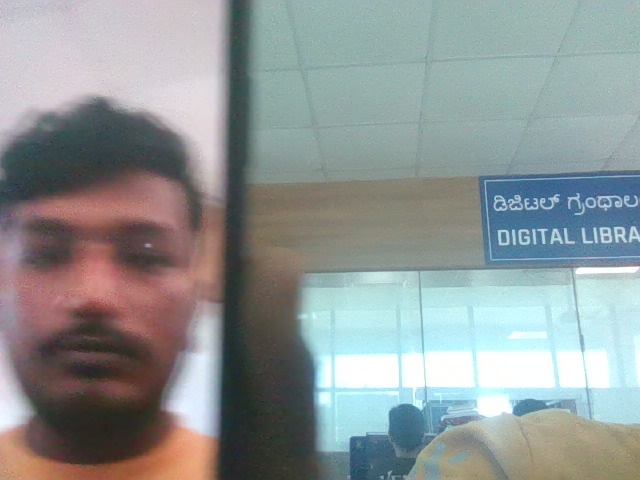fake: (0, 68, 268, 448)
